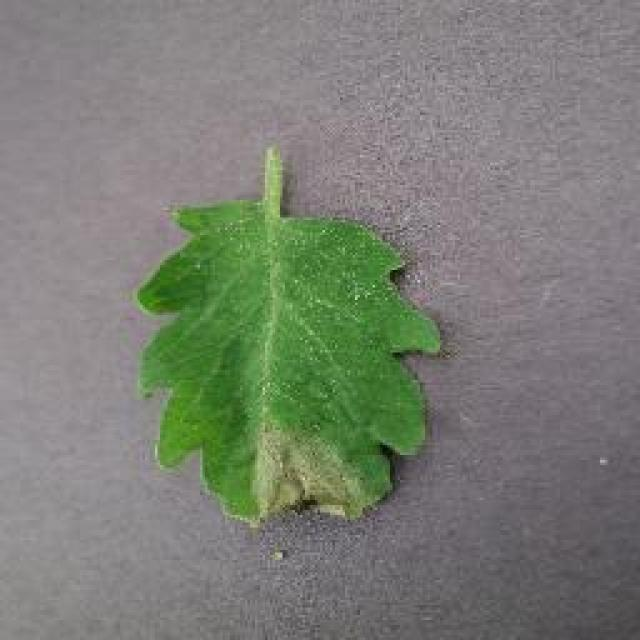Tomato late blight leaf: (139, 149, 439, 521)
